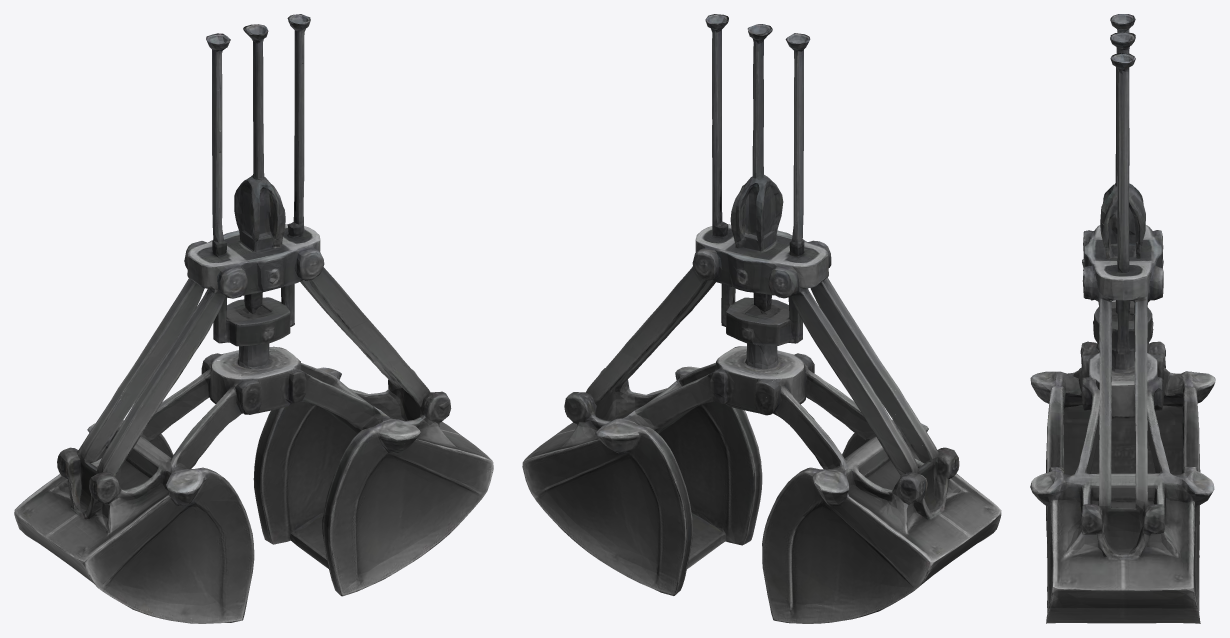
File: grab.d.glb
3 views of the same model, side by side, from view 1: azimuth 30°, elevation 25°; view 2: azimuth 150°, elevation 25°; view 3: azimuth 270°, elevation 25° (orthographic).
Parts seen in each view (by area): view 1: jawR, jawL, frame; view 2: jawR, jawL, frame; view 3: jawR, frame, jawL.
Part boxes in pixels (bbox=[...]): jawR: bbox=[253, 329, 493, 596]; jawL: bbox=[14, 355, 254, 623]; frame: bbox=[82, 14, 416, 464]; jawR: bbox=[522, 330, 762, 595]; jawL: bbox=[762, 355, 1001, 623]; frame: bbox=[598, 14, 932, 462]; jawR: bbox=[1030, 378, 1214, 623]; frame: bbox=[1082, 14, 1163, 493]; jawL: bbox=[1030, 341, 1215, 557].
Bounding box in the file's own units: 0.7935 × 1 × 0.3079.
1 material, 1 textured.
